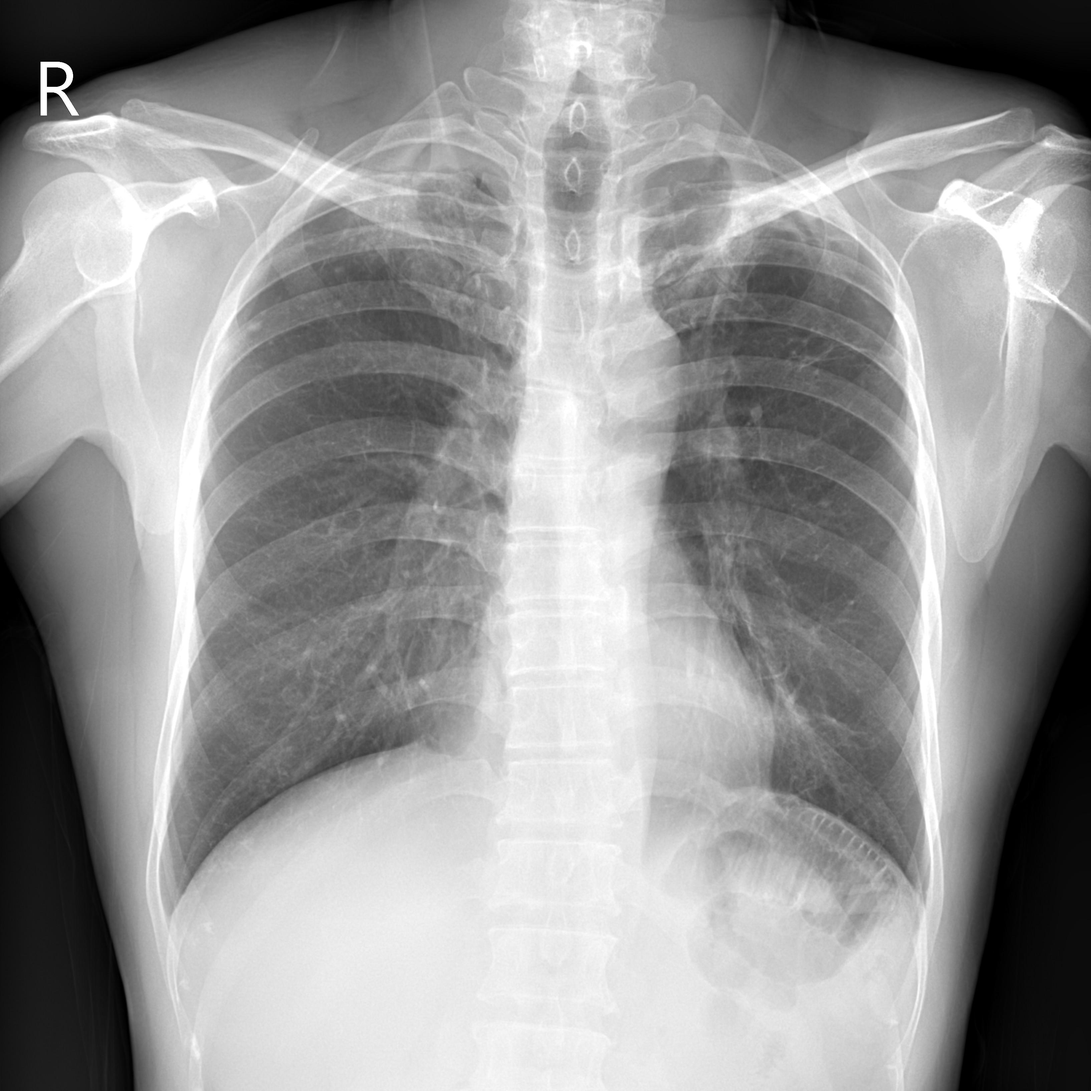Pulmonary fibrosis: (708, 200, 851, 276), (344, 191, 409, 241)
